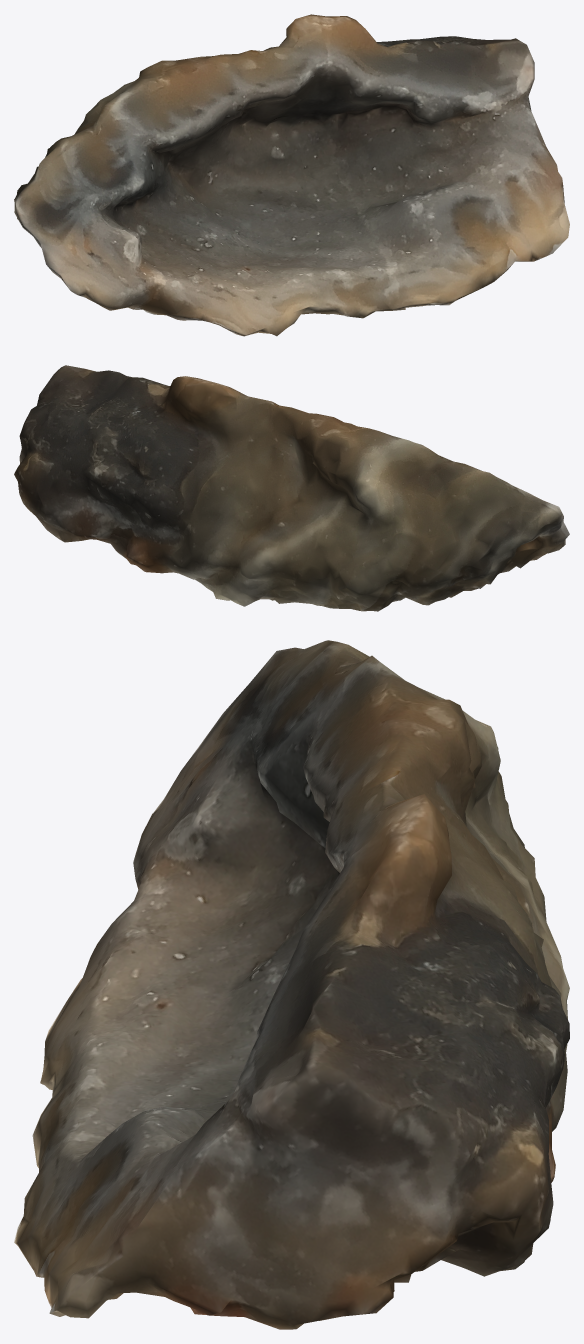
The model's file is Achat.glb.
3 renders of one model, top to bottom at view 1: azimuth 30°, elevation 25°; view 2: azimuth 150°, elevation 25°; view 3: azimuth 270°, elevation 25°, orthographic. The views are drawn at different scales.
Parts seen in each view (by area): view 1: Default; view 2: Default; view 3: Default.
Part boxes in pixels (x1,y1,x2,y2): Default: (14, 14, 569, 336); Default: (14, 365, 569, 611); Default: (14, 640, 569, 1329).
Size of the model in its own units: 1.96 by 0.8092 by 0.9397.
Materials: 1 (1 with a texture image).
